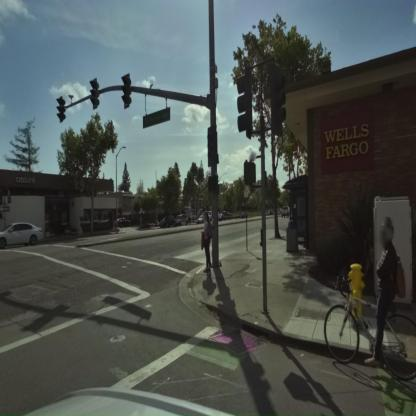bicycle: (322, 273, 416, 371)
car: (0, 223, 45, 250)
fire hydrant: (345, 255, 364, 317)
person: (367, 214, 409, 364)
traffic light: (236, 78, 253, 135), (121, 73, 133, 108), (88, 78, 100, 108), (244, 161, 256, 186), (56, 96, 67, 122)
